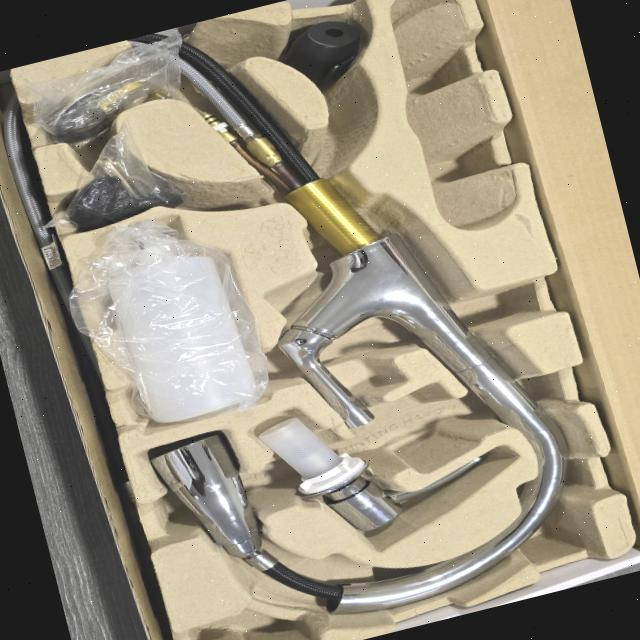1o: (133, 32, 568, 613)
2: (255, 416, 482, 531)
3: (98, 215, 266, 424)
4m: (390, 0, 517, 229)
5: (278, 17, 363, 88)
6: (16, 29, 182, 147)
7: (41, 128, 184, 231)
